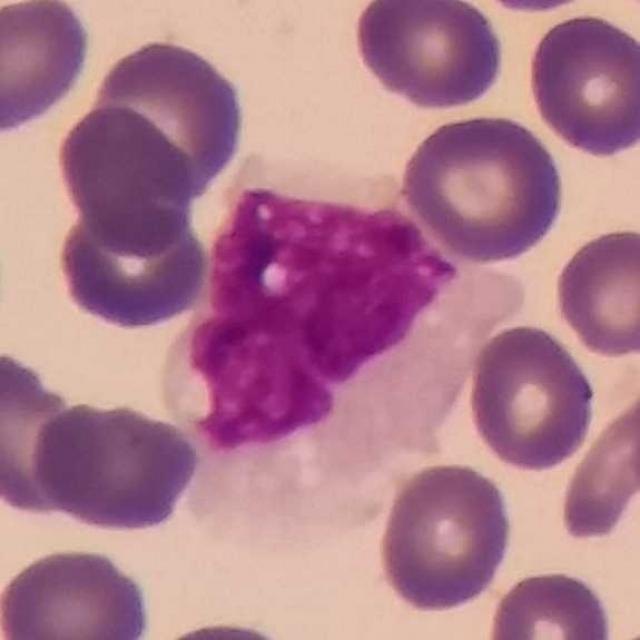Monocyte: (172, 161, 516, 527)
RBC: (87, 32, 249, 202), (395, 108, 570, 265), (29, 398, 204, 536), (374, 458, 518, 616), (54, 100, 200, 255), (463, 319, 600, 473), (51, 205, 213, 333), (348, 0, 509, 114), (522, 10, 640, 160), (0, 542, 157, 640), (0, 346, 85, 519), (555, 374, 640, 545), (0, 0, 96, 140), (550, 222, 640, 361), (483, 565, 616, 640), (460, 0, 608, 17), (161, 621, 284, 640)
